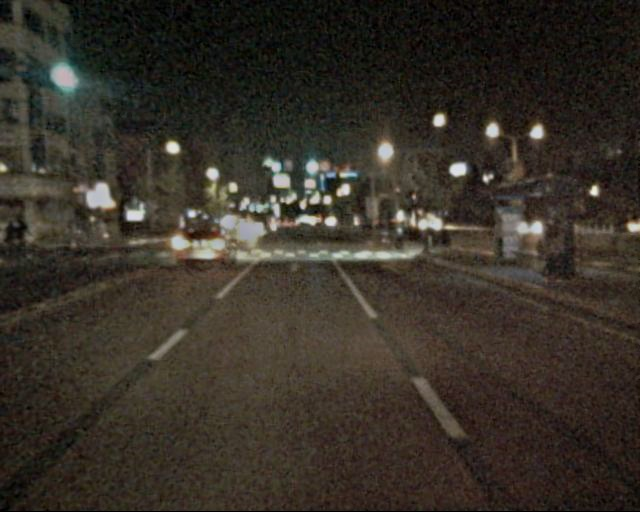person: (557, 218, 584, 284), (542, 221, 565, 282)
